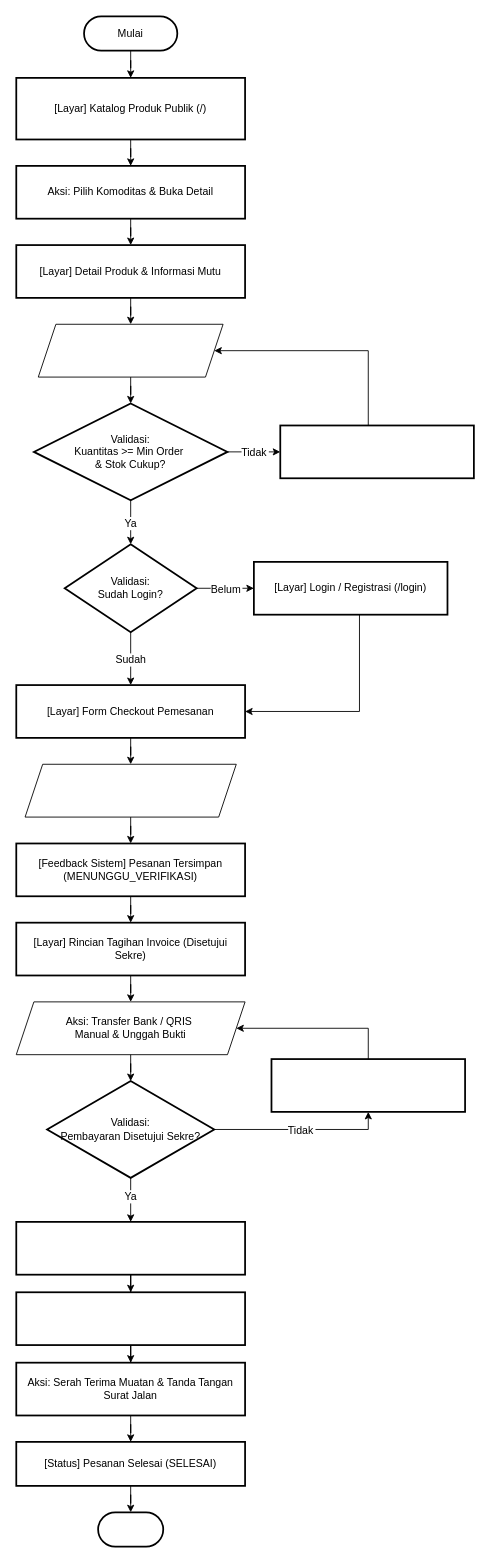
The diagram is 489 pixels wide and 1562 high, and some of its shapes have lost their labels. Here are the shapes that lost their labels. From the top down, the centre of each, then its label:
At [130,350]: "Aksi: Input Kuantitas Pesanan (kg)".
At [376,451]: "[Alert] Kuantitas Kurang / Stok Tidak Mencukupi".
At [130,790]: "Aksi: Tentukan Jadwal Kirim & Submit Order".
At [368,1085]: "[Alert] Bukti Bayar Ditolak, Unggah Ulang".
At [130,1248]: "[Feedback Sistem] Status: LUNAS & Surat Jalan Terbit".
At [130,1318]: "[Layar] Pelacakan Pengiriman (/orders/{id})".
At [130,1529]: "Selesai".
